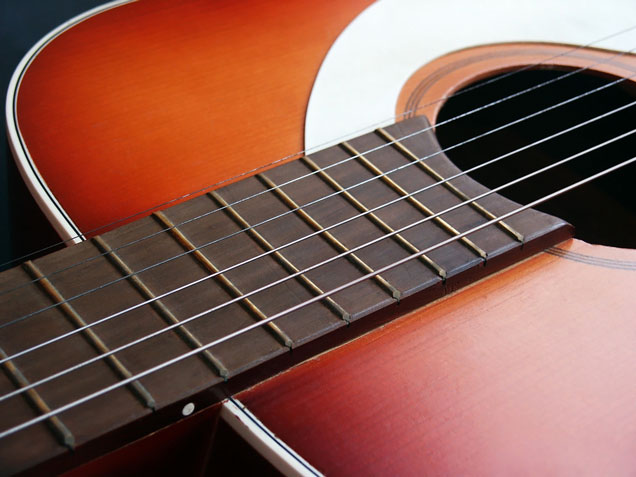guitar: (1, 1, 636, 477)
